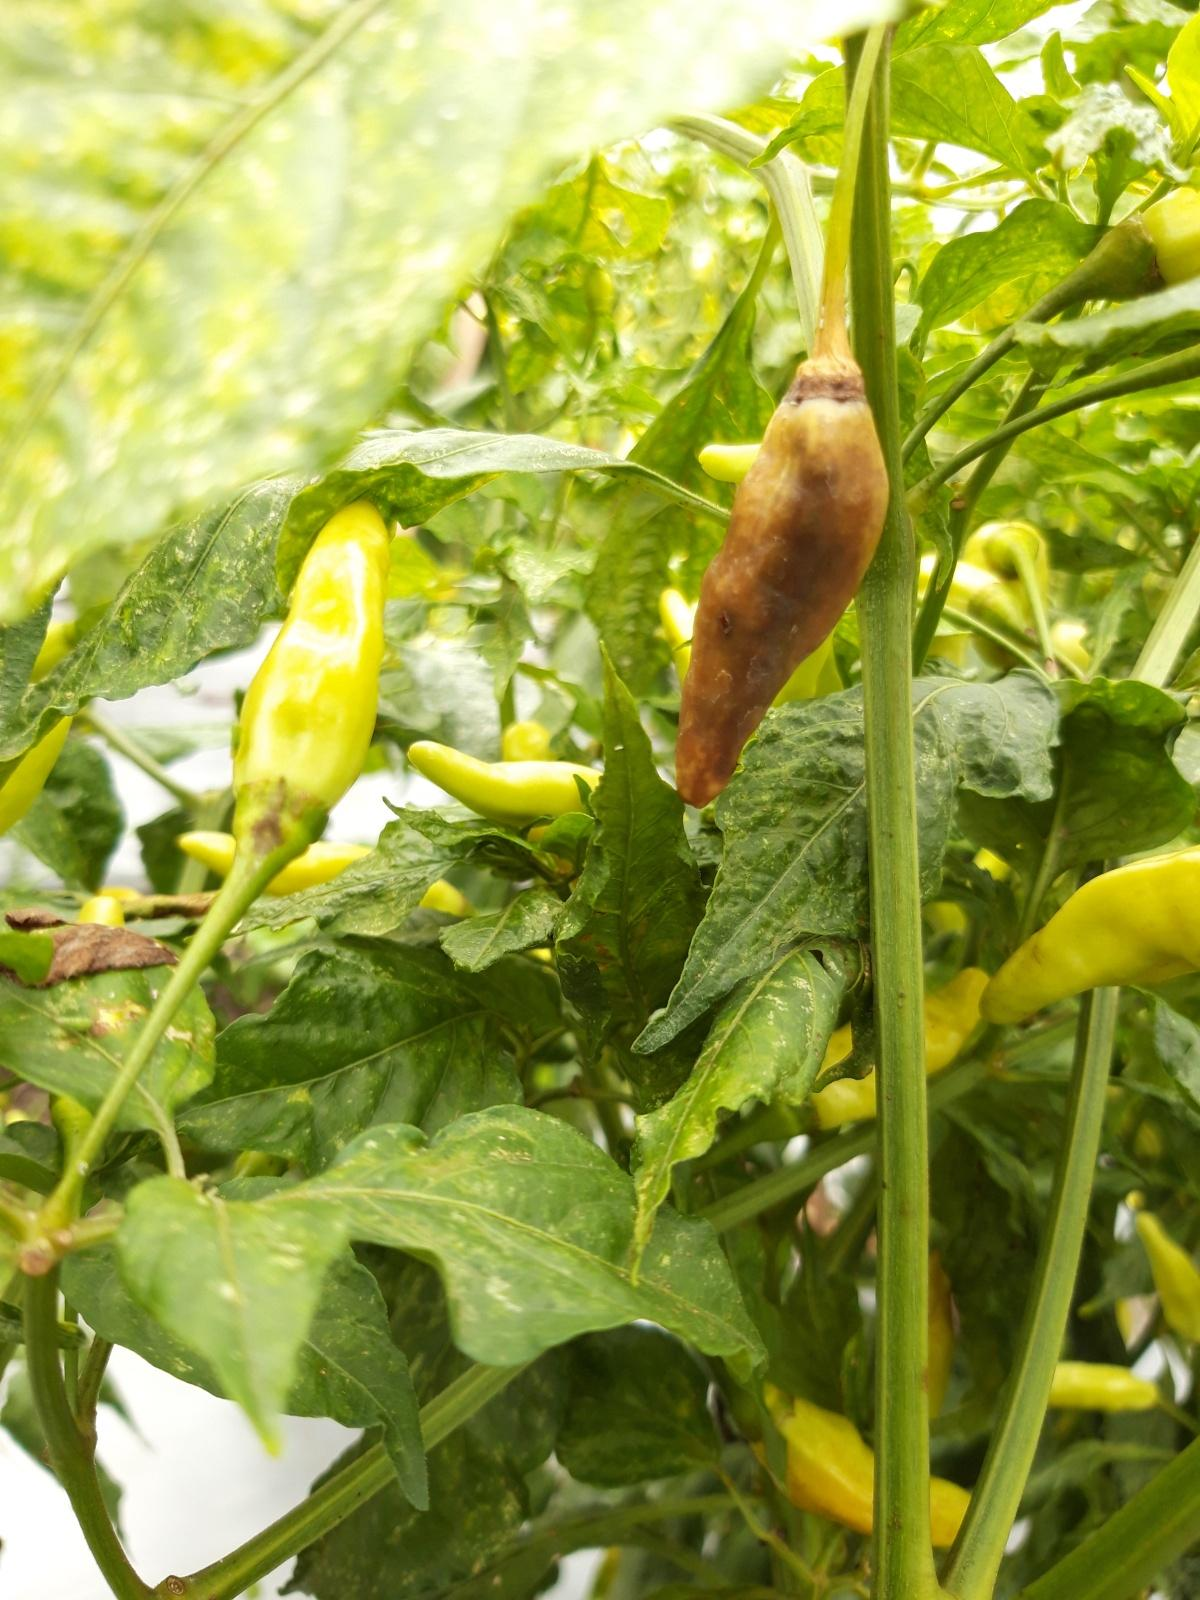cabai_normal: (227, 496, 389, 831), (747, 1382, 1007, 1543), (978, 850, 1200, 1031), (407, 738, 600, 819)
lalat_buah: (671, 359, 892, 805)
